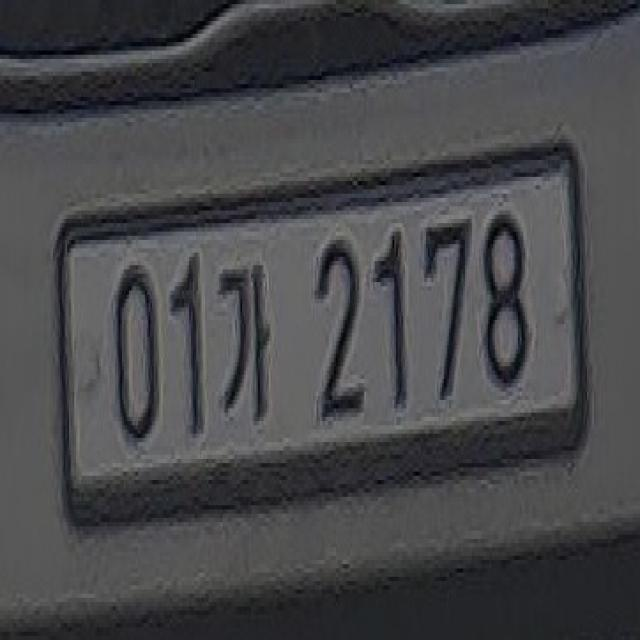0: (109, 252, 162, 444)
1: (371, 217, 412, 427), (168, 237, 208, 450)
2: (310, 224, 366, 431)
7: (418, 202, 476, 416)
8: (478, 190, 539, 394)
ga: (215, 243, 282, 437)
license_plate: (41, 95, 615, 573)
